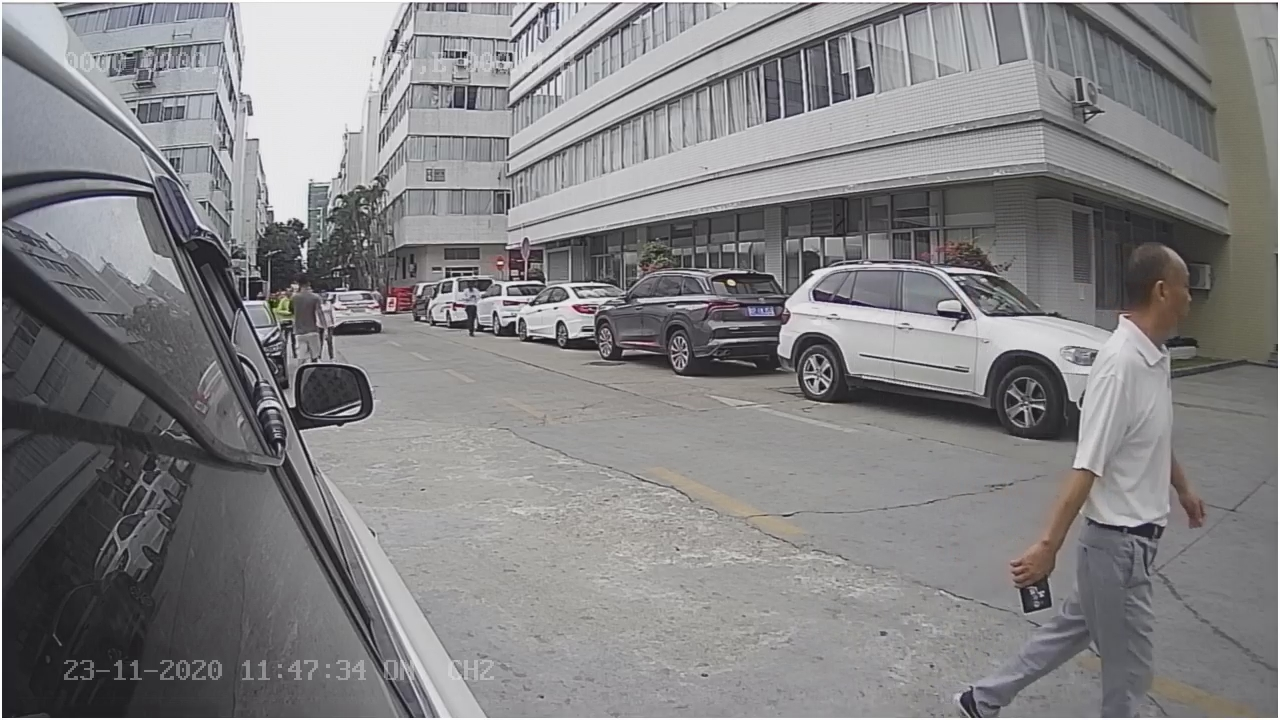person: (997, 233, 1209, 605)
